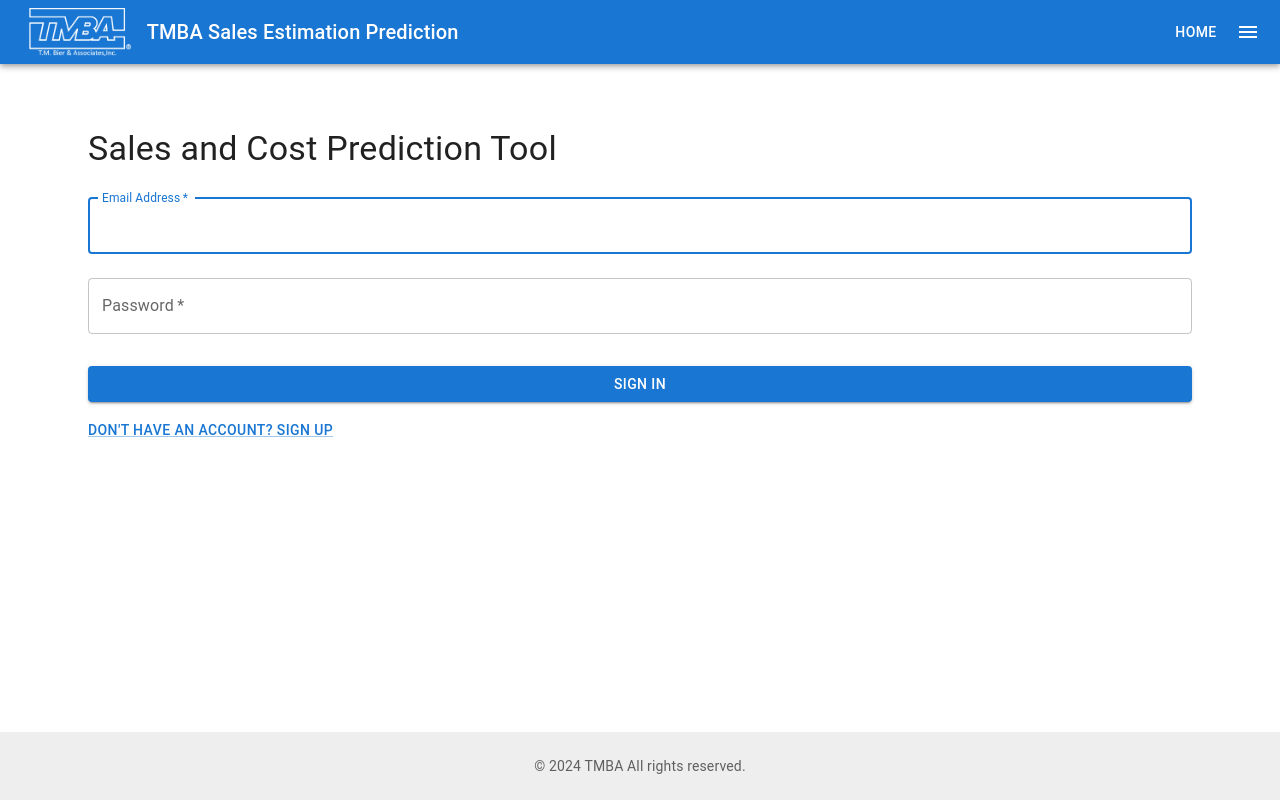
Test: App Component › opens and closes the menu
Click the button named "menu".
click(1248, 32)  # box [1228, 12, 1268, 52]
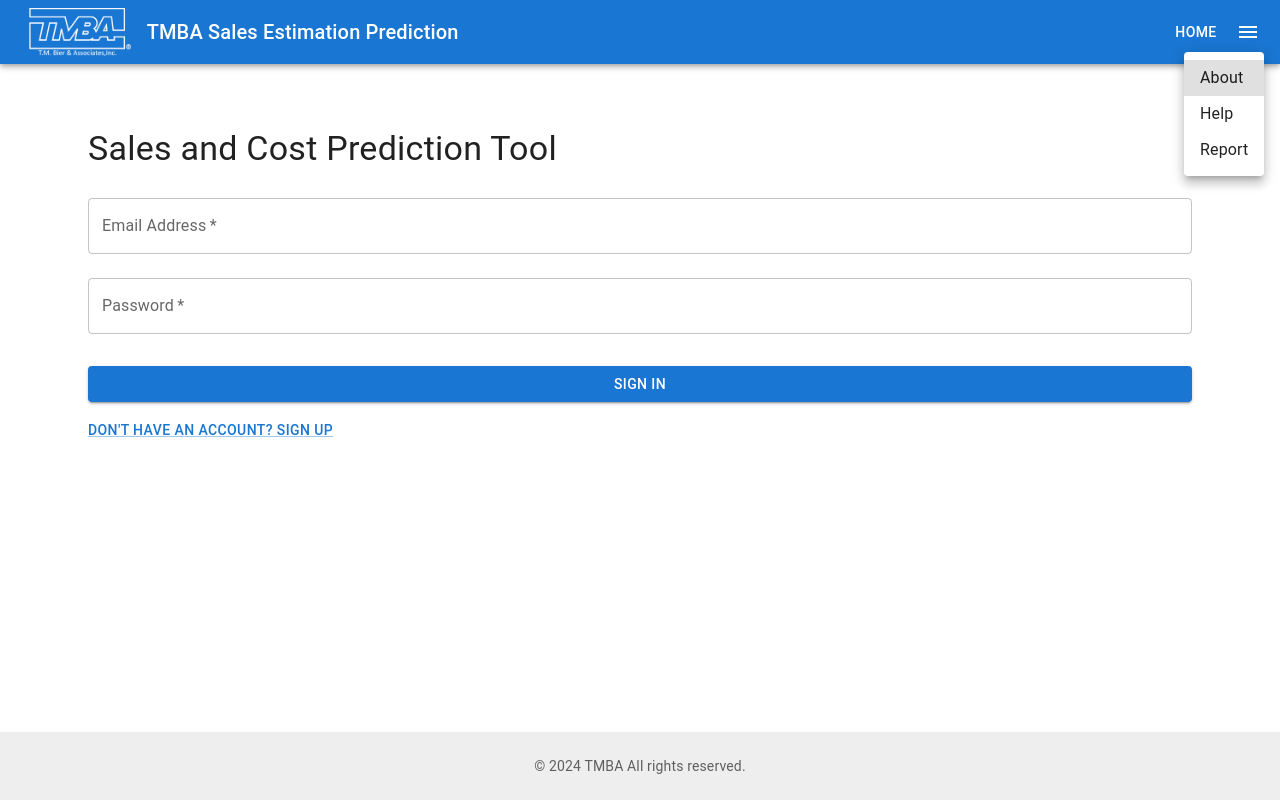
expect the menu item "About" is shown: met, box [1184, 60, 1264, 96]
